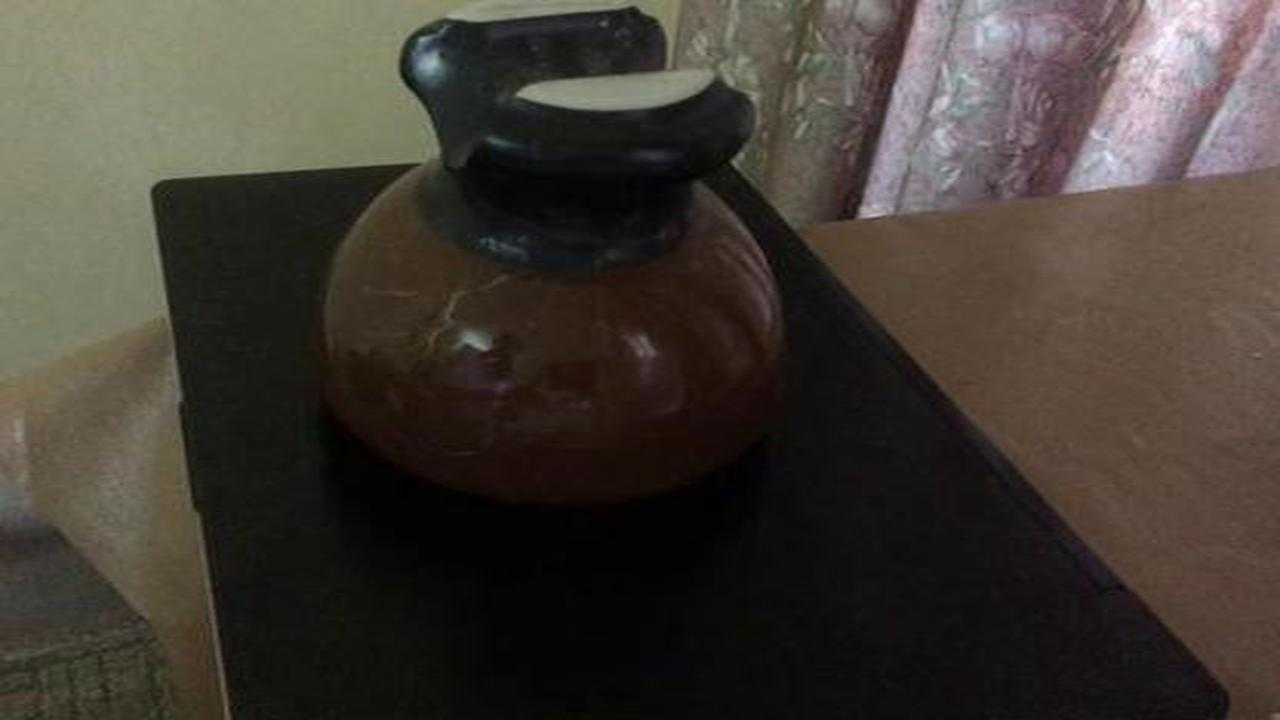insulator_pin: (290, 4, 834, 523)
